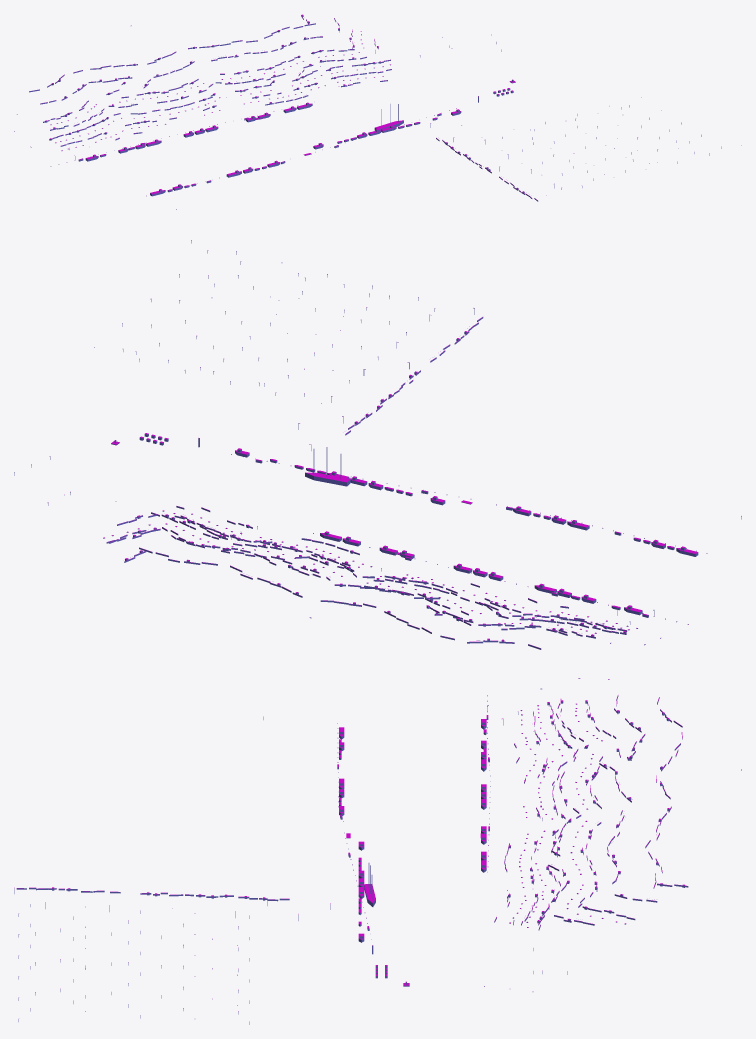
File: details.fbx
The picture shows the model from 3 angles, top to bottom: view 1: azimuth 30°, elevation 25°; view 2: azimuth 150°, elevation 25°; view 3: azimuth 270°, elevation 25°; orthographic projection. The views are drawn at different scales.
Parts seen in each view (by area): view 1: details; view 2: details; view 3: details.
Part boxes in pixels (x1,y1,x2,y2): details: (14,14,741,209); details: (14,240,741,649); details: (14,678,741,1024).
Bounding box in the file's own units: 787 × 47.25 × 690.
